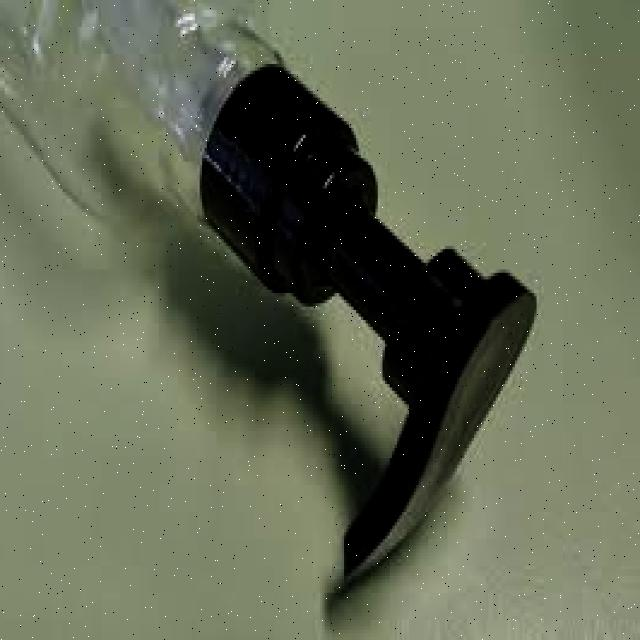liquid soap: (0, 0, 544, 615)
